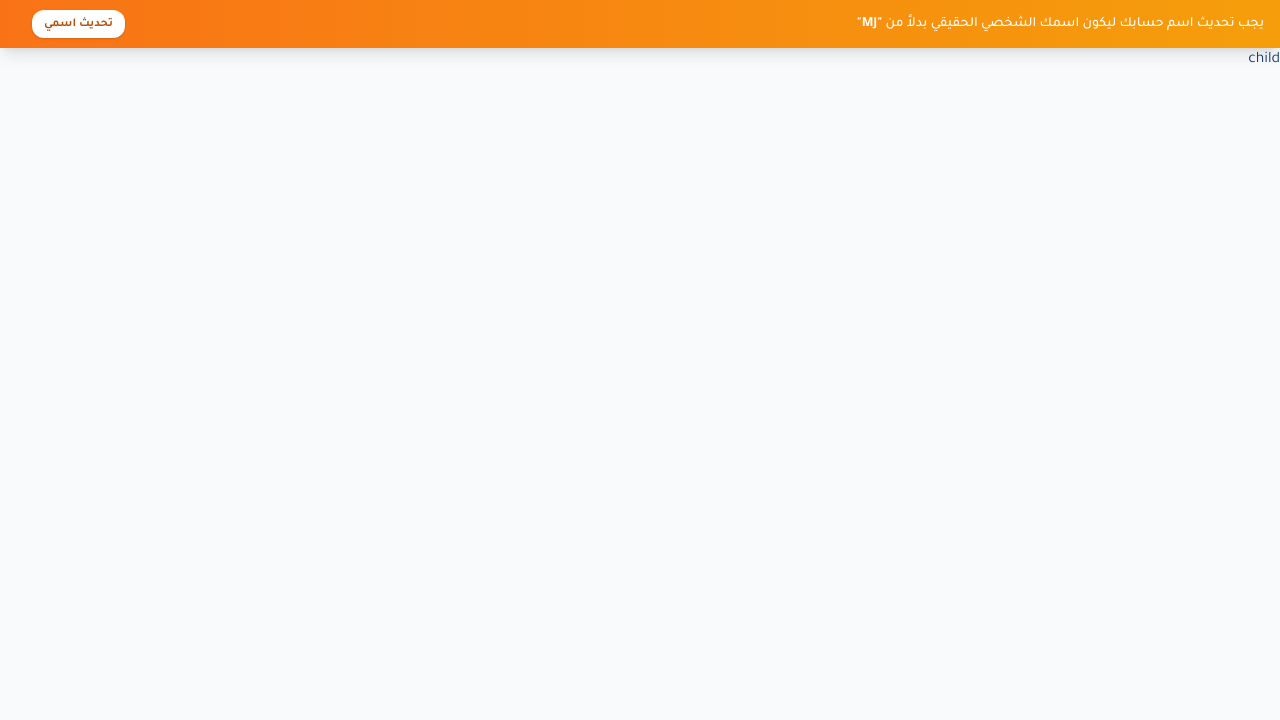
Scenario: GenericNameGuard — name update modal › leading formula char is blocked client-side, matching the backend rule
Click the button "تحديث اسمي" at (78, 24), box [32, 10, 125, 38]
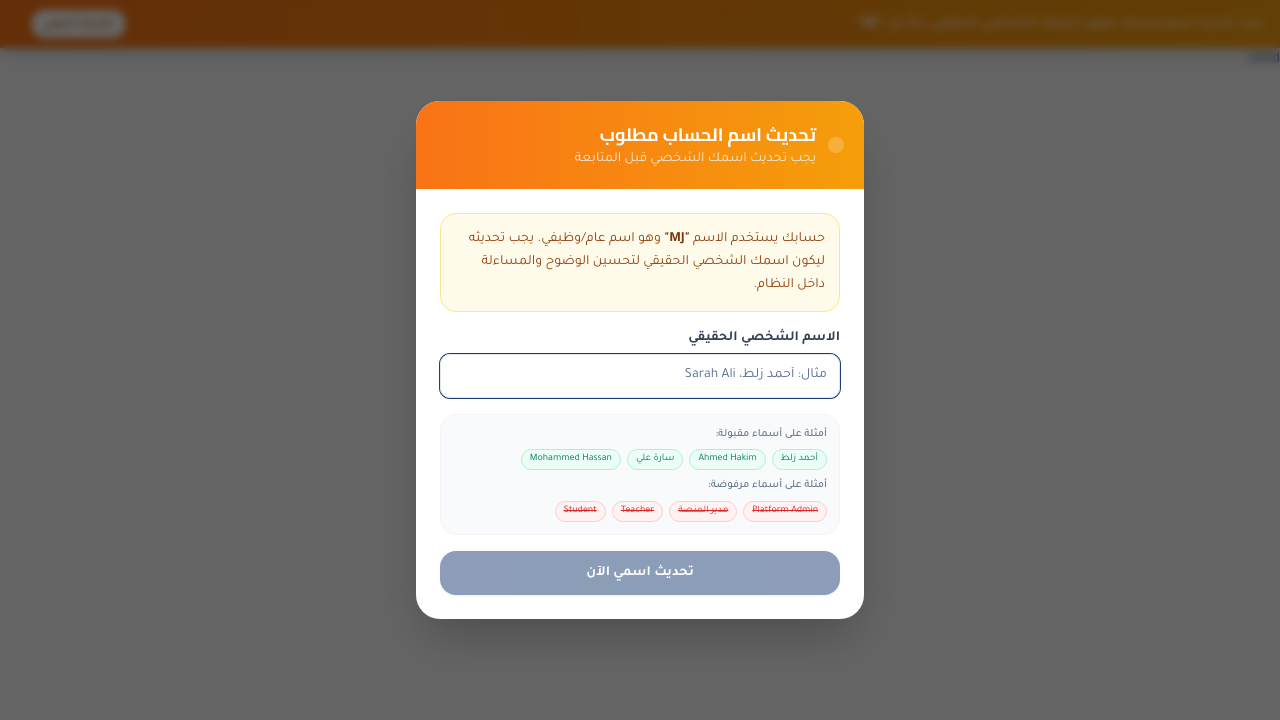
Type "-Ali" into the field with placeholder "مثال: أحمد زلط، Sarah Ali" at (640, 376), box [440, 354, 840, 398]
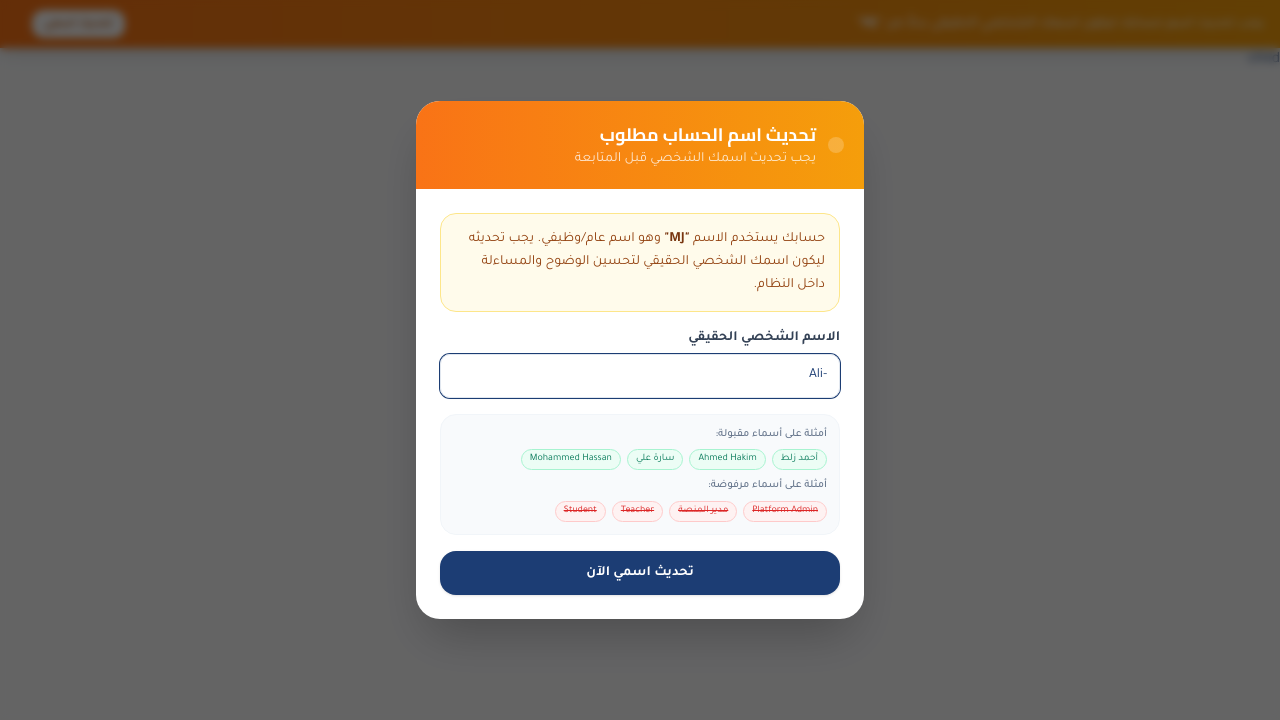
Click the button "تحديث اسمي الآن" at (640, 573), box [440, 551, 840, 595]
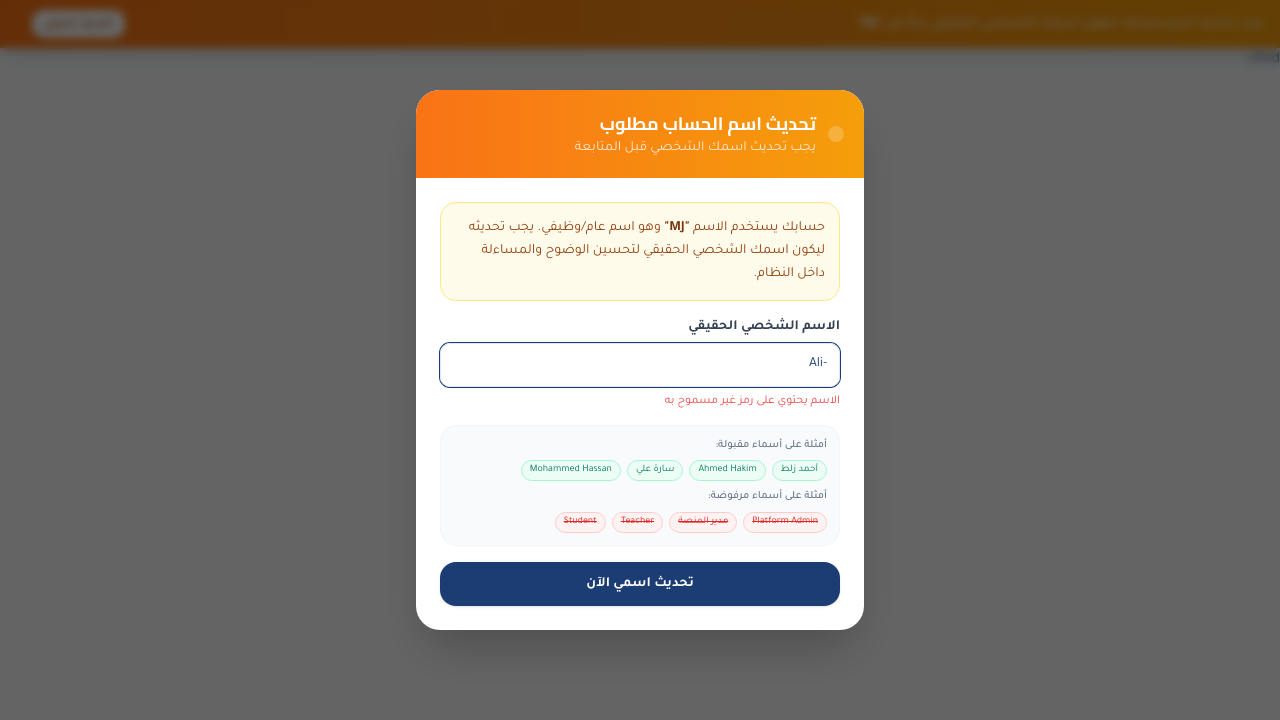
Expected: the text "الاسم يحتوي على رمز غير مسموح به" is shown, [665, 395, 840, 407]
